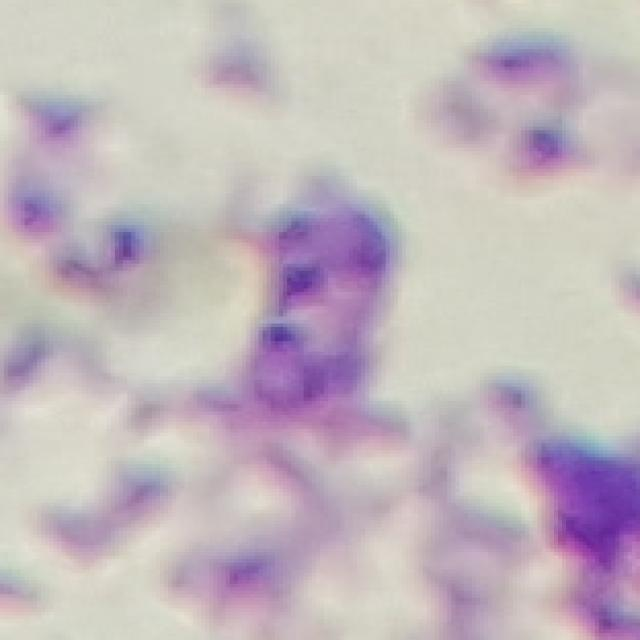non-sperm: (244, 194, 399, 433)
